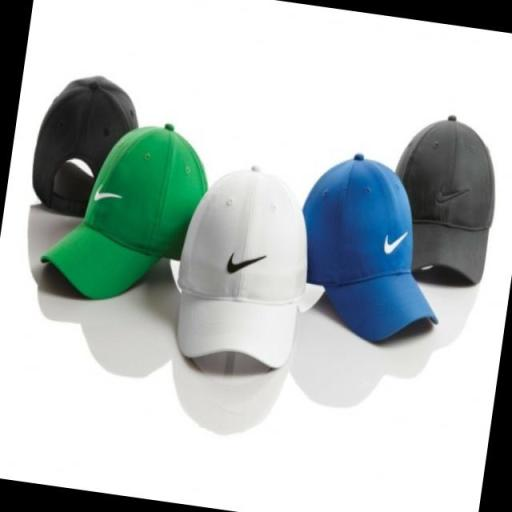Nike: (224, 246, 269, 281)
